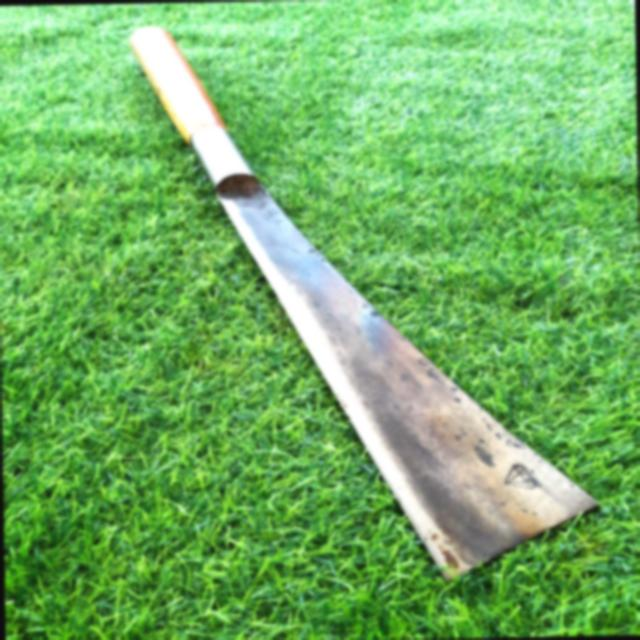eto: (114, 19, 626, 596)
